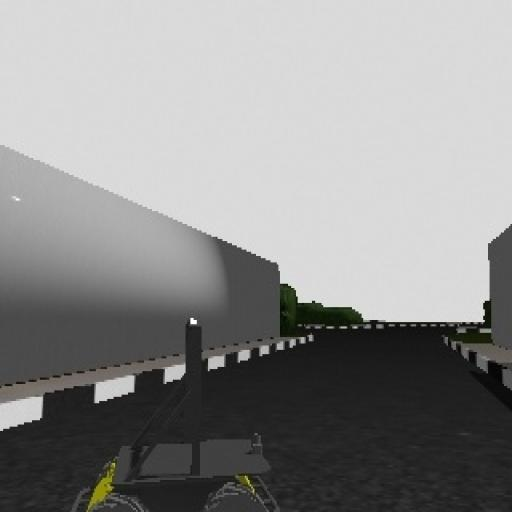huskya200: (58, 305, 302, 512)
